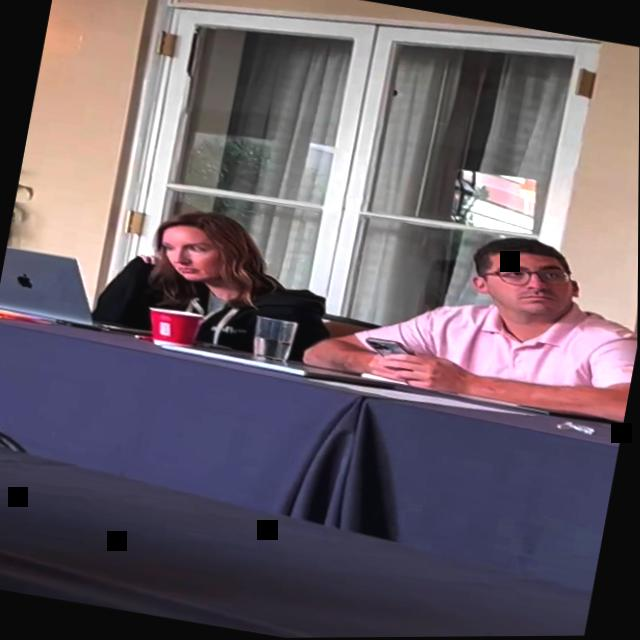NO-Mask: (471, 243, 582, 324), (152, 222, 231, 287)
